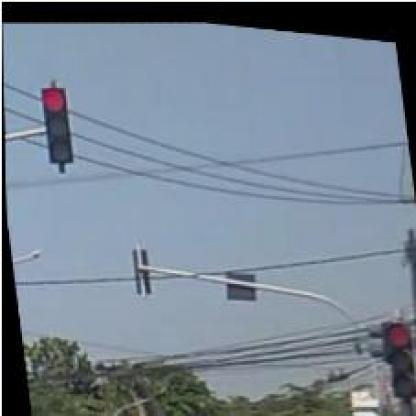red: (38, 83, 72, 163), (384, 312, 415, 392)
